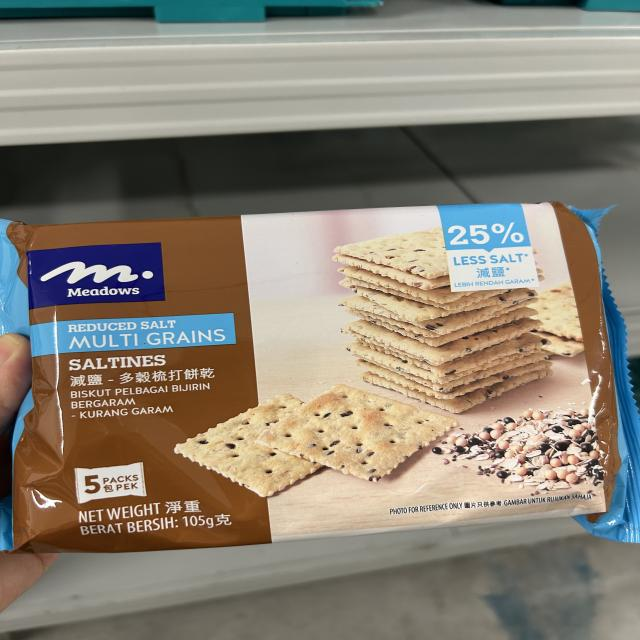object_name: (29, 231, 600, 520)
